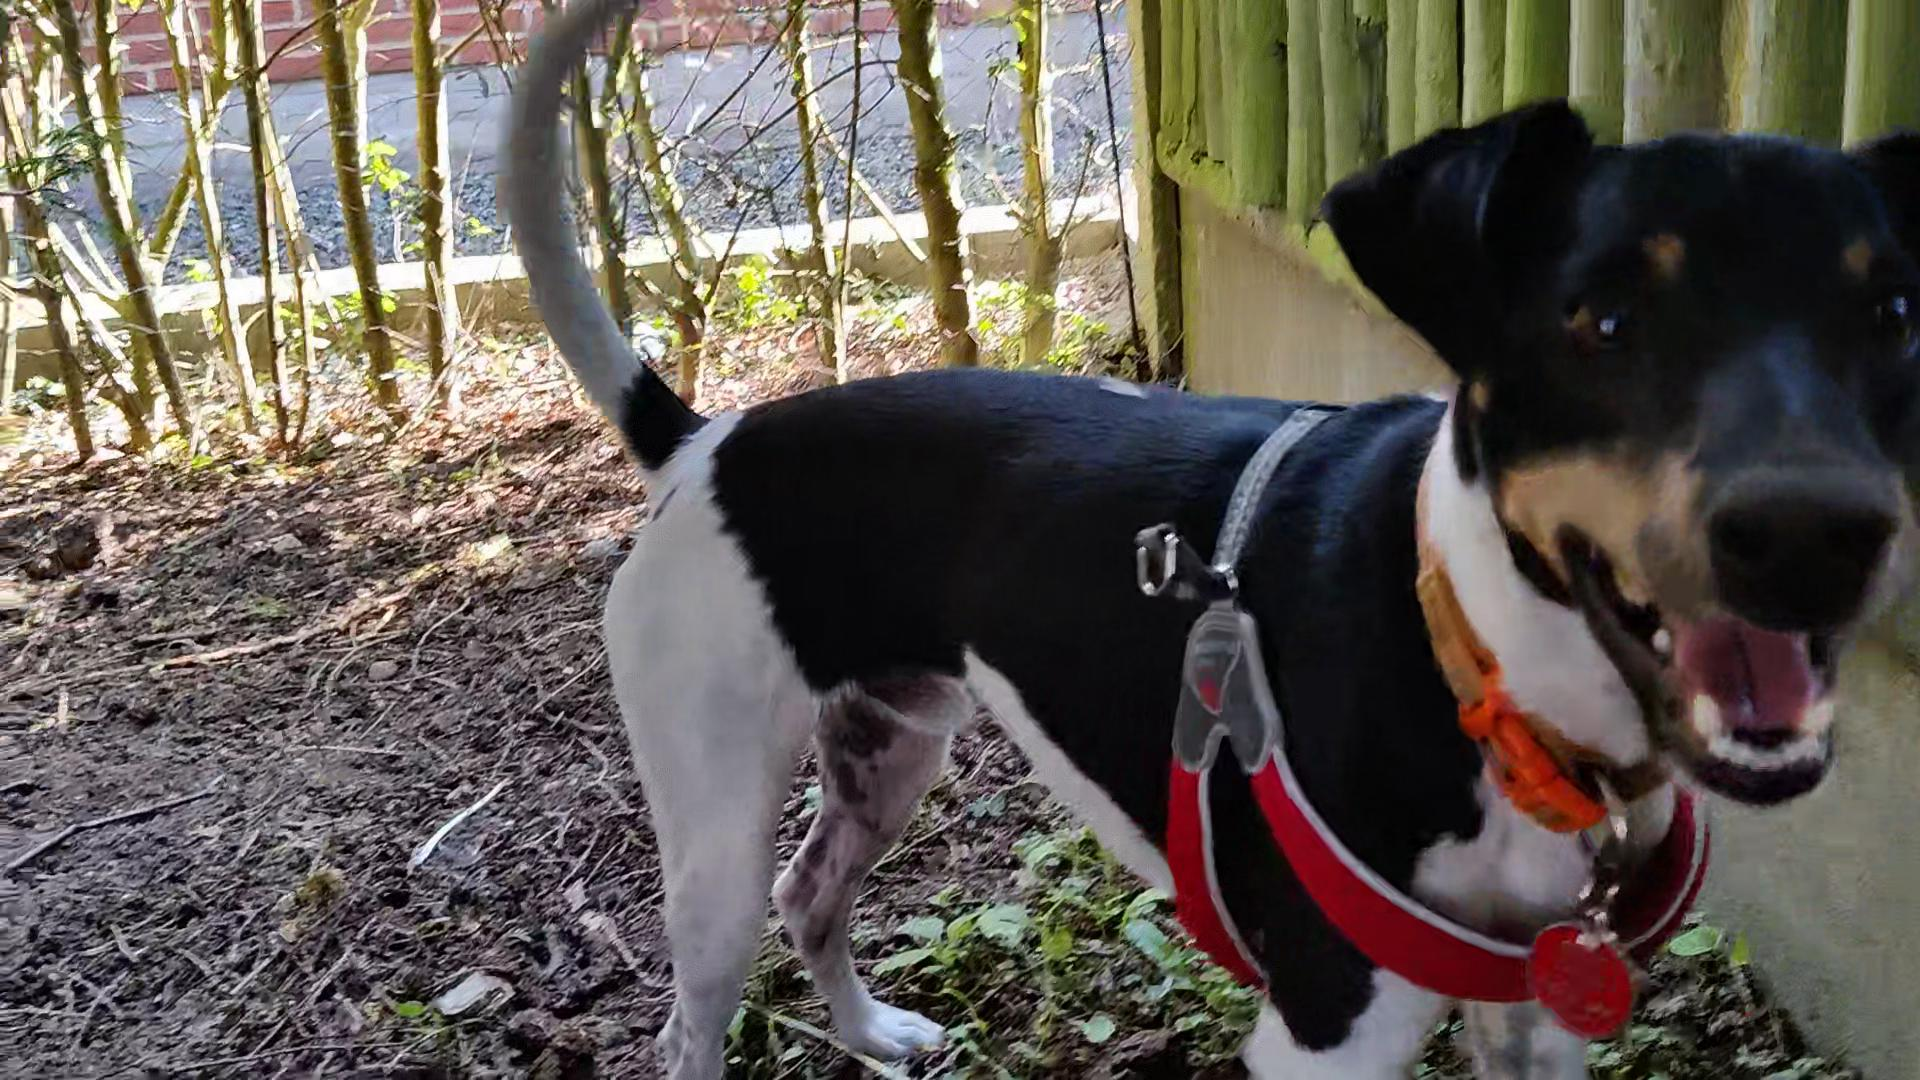Dog: (468, 0, 1919, 1079)
